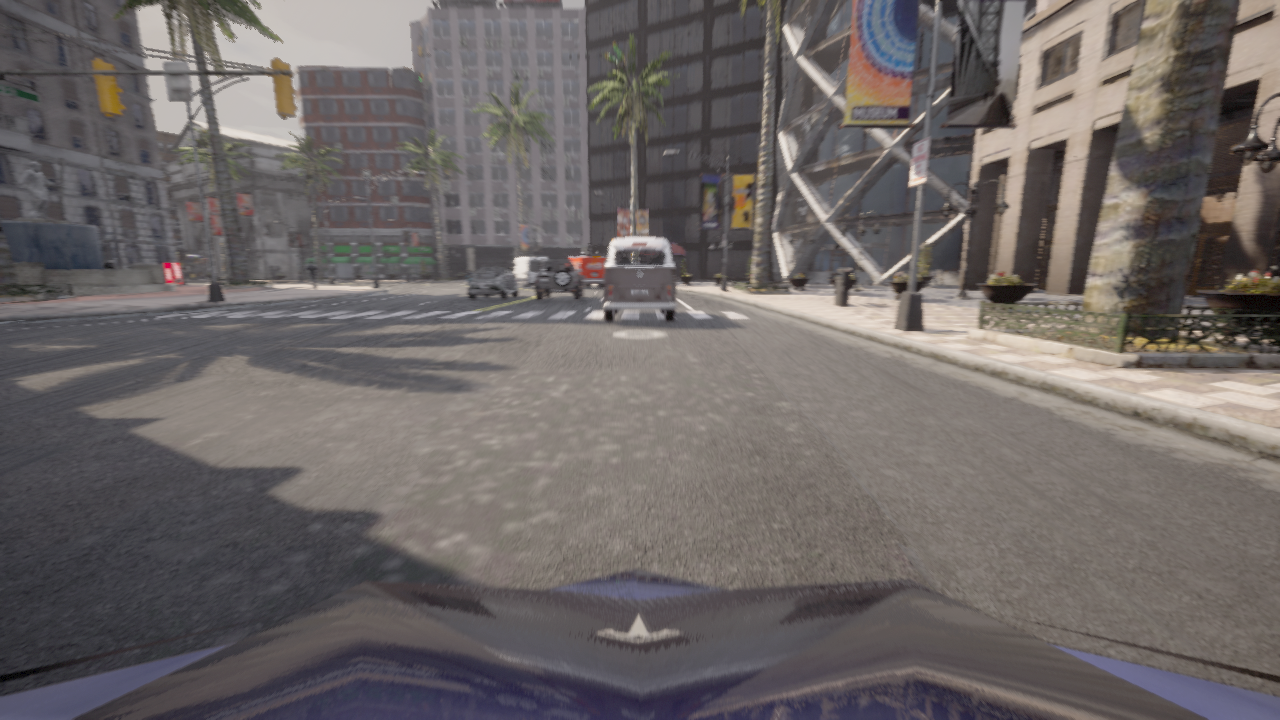cyclist: (0, 569, 1279, 719), (603, 237, 676, 321), (535, 259, 583, 300), (468, 266, 518, 299), (510, 256, 548, 288), (568, 257, 606, 288), (466, 275, 472, 284)
pedestrian: (304, 261, 319, 289)
